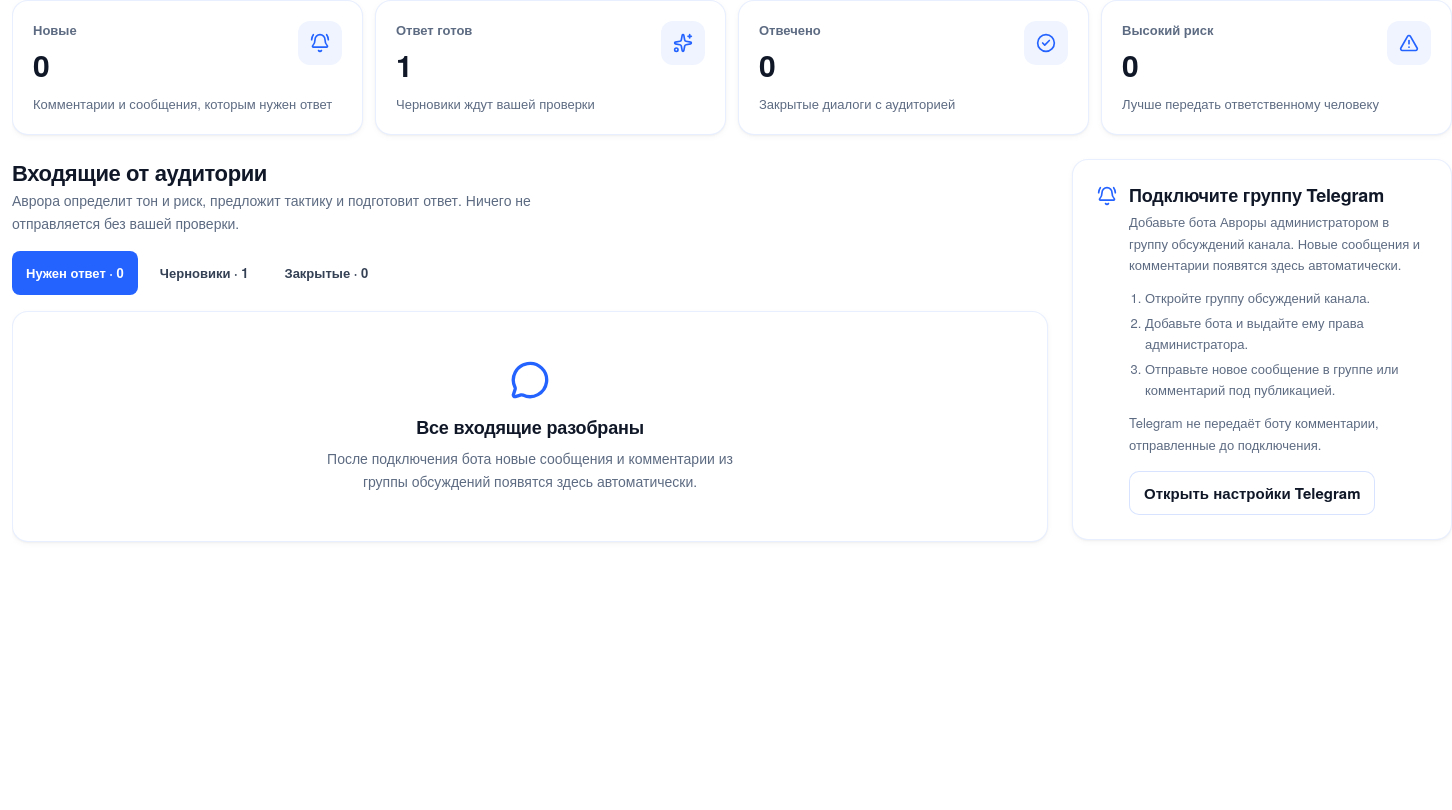
Test: audience draft controls › deletes an unsent draft and refreshes the ready counter
Click the button "Черновики · 1".
click(204, 273)  # box left=146, top=251, right=262, bottom=295
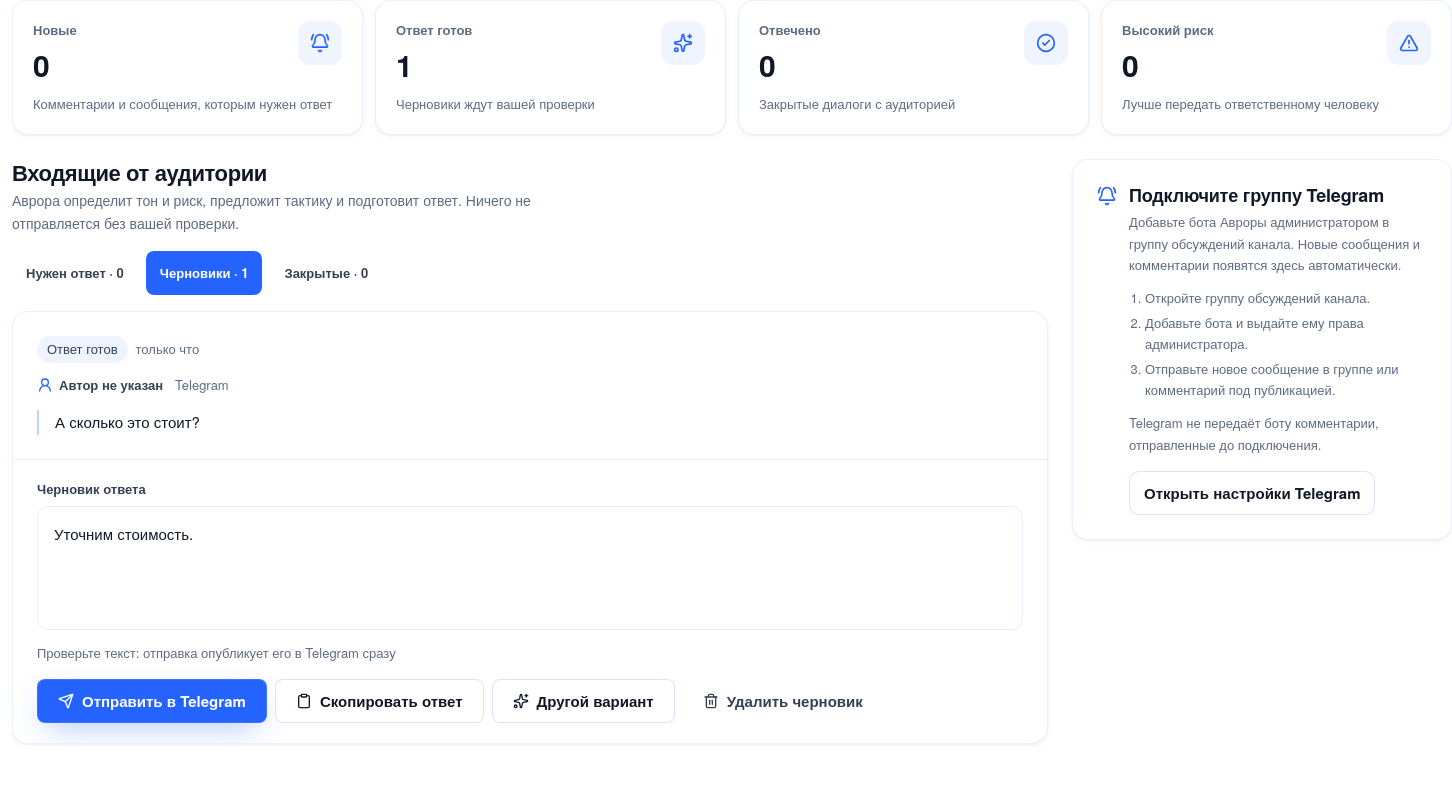
Click the button "Удалить черновик".
click(783, 701)  # box left=683, top=679, right=883, bottom=723
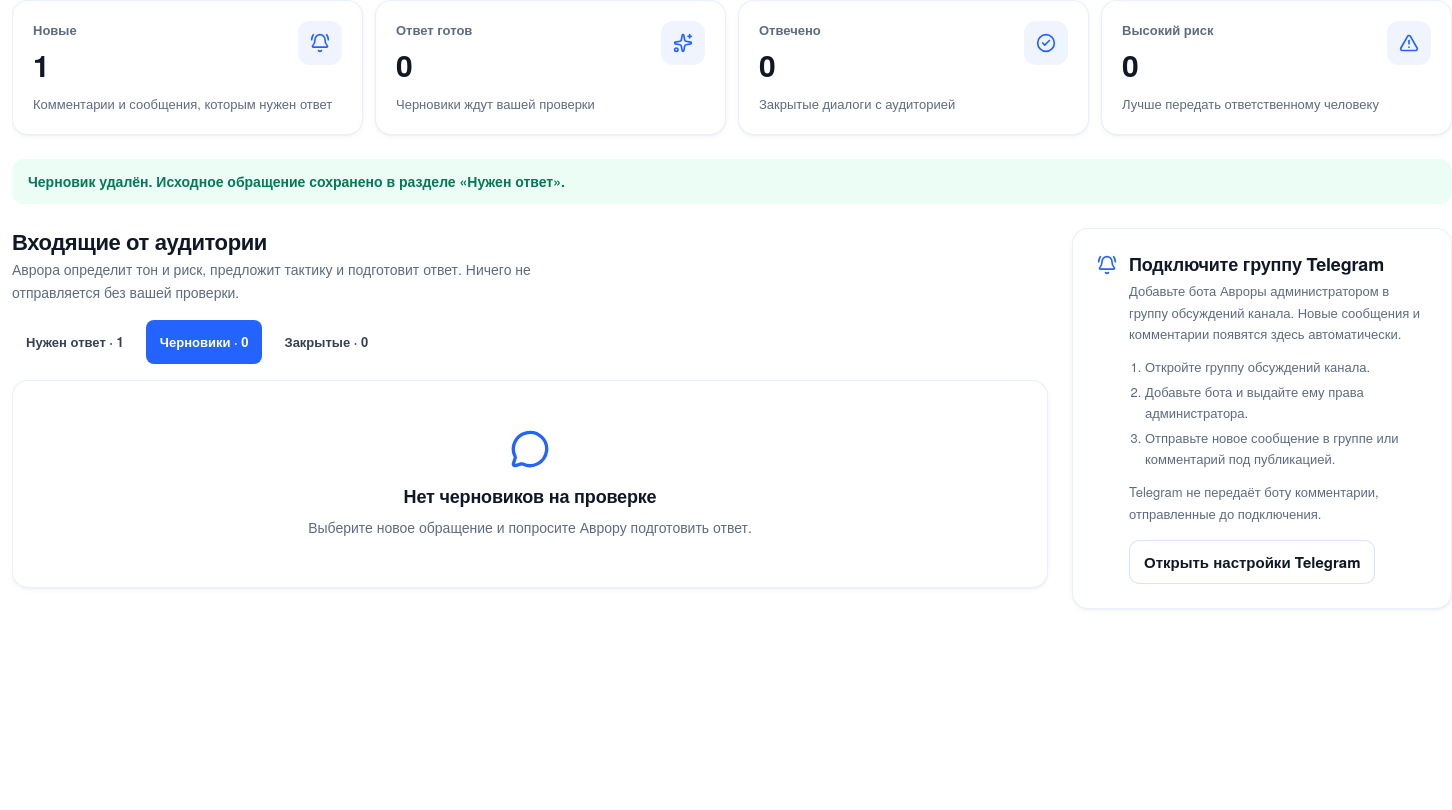
Expected: the field showing "Уточним стоимость." is not shown
Result: the text "Черновик удалён. Исходное обращение сохранено в разделе «Нужен ответ»." is shown at left=12, top=159, right=1451, bottom=204
Click the button "Нужен ответ · 1".
click(75, 342)  # box left=12, top=320, right=138, bottom=364
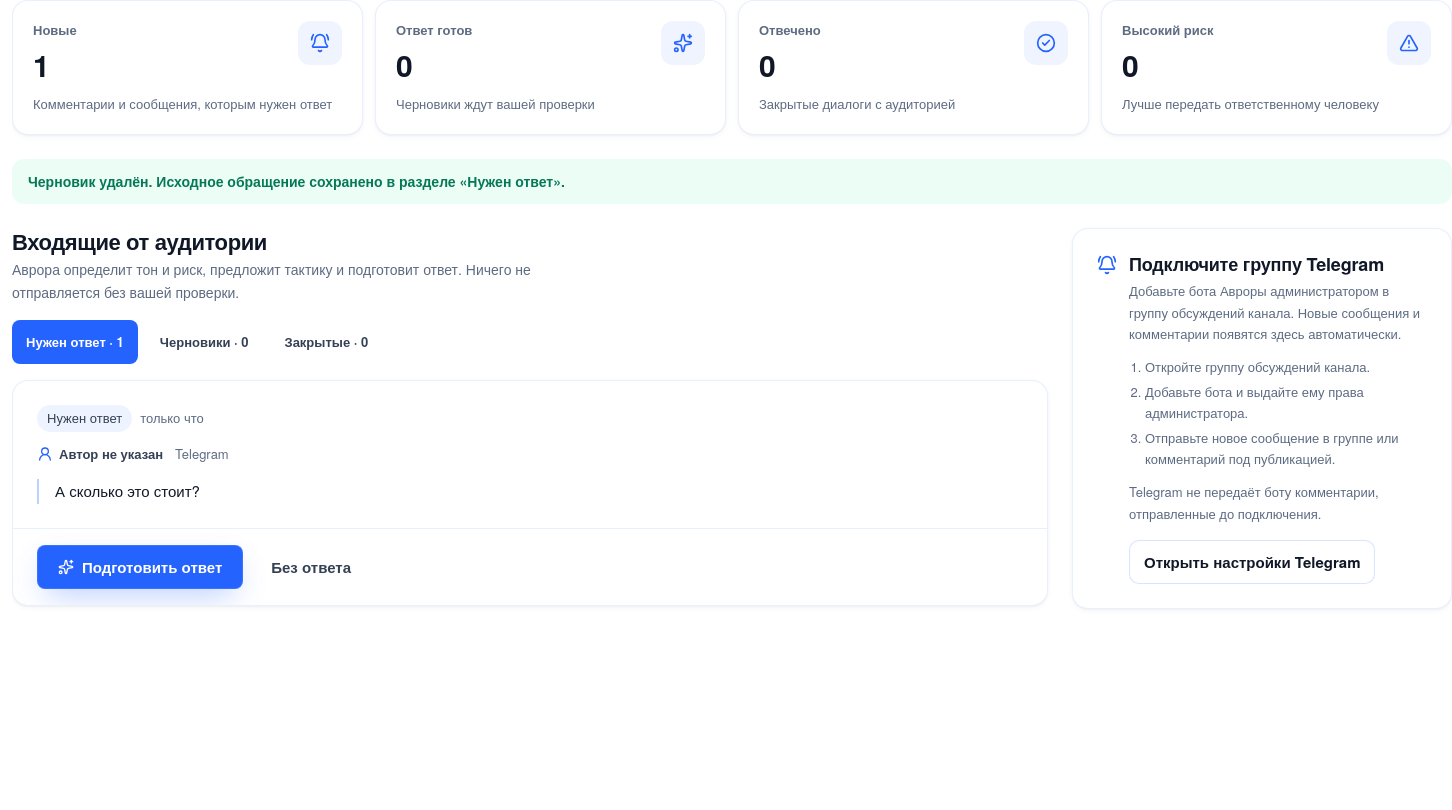
Result: the text "А сколько это стоит?" is shown at left=37, top=479, right=1023, bottom=504
